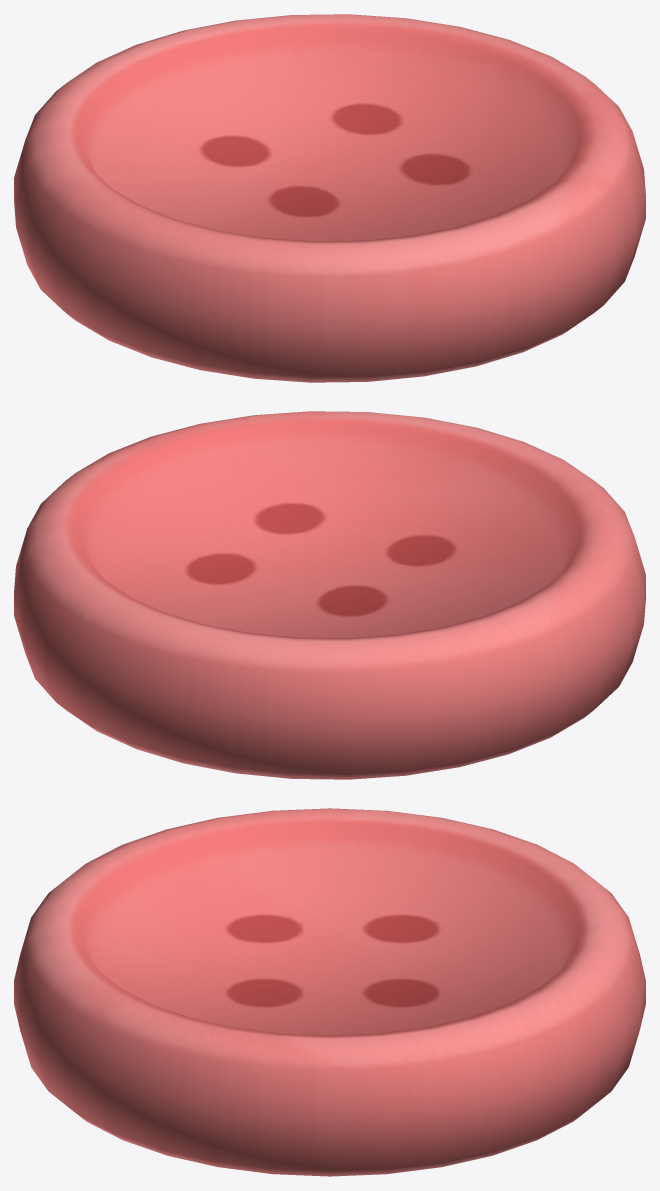
The model's file is red_button.glb.
3 renders of one model, top to bottom at view 1: azimuth 30°, elevation 25°; view 2: azimuth 150°, elevation 25°; view 3: azimuth 270°, elevation 25°, orthographic.
Parts seen in each view (by area): view 1: Cylinder; view 2: Cylinder; view 3: Cylinder.
Part boxes in pixels (left/top/right/bottom): Cylinder: left=14, top=14, right=645, bottom=382; Cylinder: left=14, top=411, right=645, bottom=779; Cylinder: left=14, top=808, right=645, bottom=1176.
Size of the model in its own units: 2 by 0.4755 by 2.
1 material, 1 textured.
